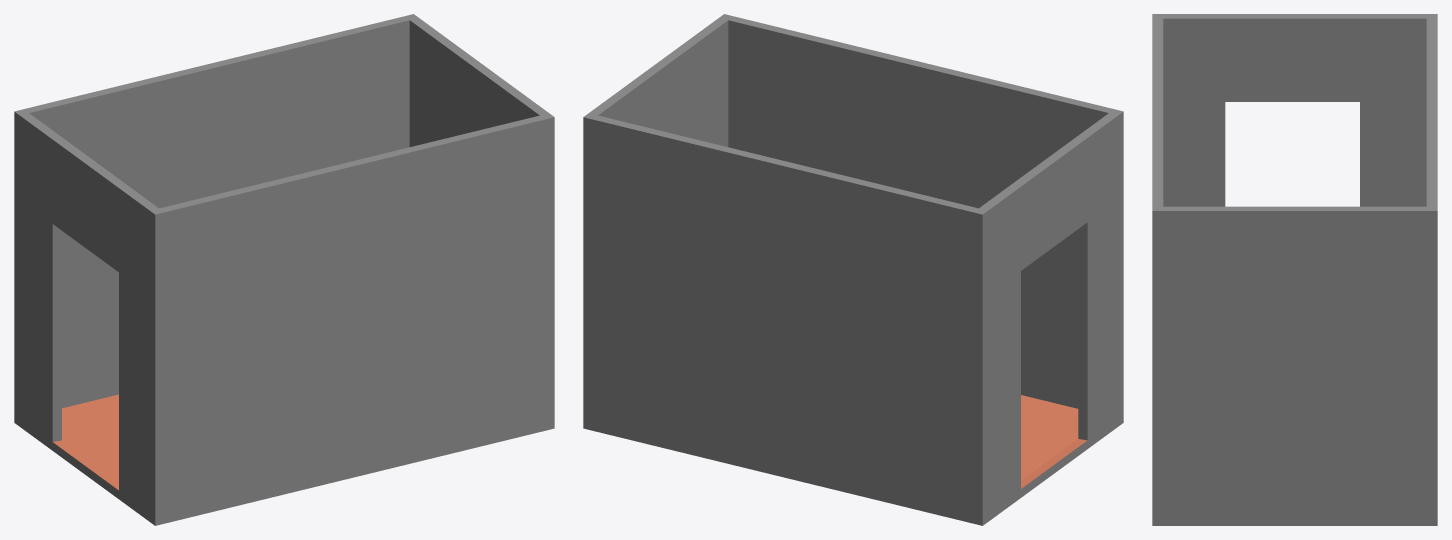
Rendered from UntilityRoom.fbx.
The picture shows the model from 3 angles, left to right: view 1: azimuth 30°, elevation 25°; view 2: azimuth 150°, elevation 25°; view 3: azimuth 270°, elevation 25°; orthographic projection.
Visible parts, largest first — view 1: UtilityRoom.001; view 2: UtilityRoom.001; view 3: UtilityRoom.001.
Part boxes in pixels (x1,y1,x2,y2): UtilityRoom.001: (14, 14, 554, 525); UtilityRoom.001: (583, 14, 1123, 525); UtilityRoom.001: (1152, 14, 1437, 525).
Bounding box in the file's own units: 483 × 360 × 295.
